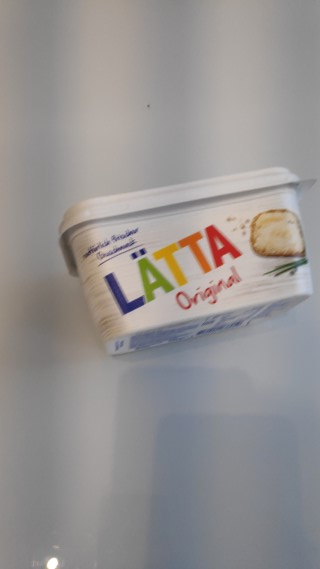laetta: (57, 165, 320, 357)
